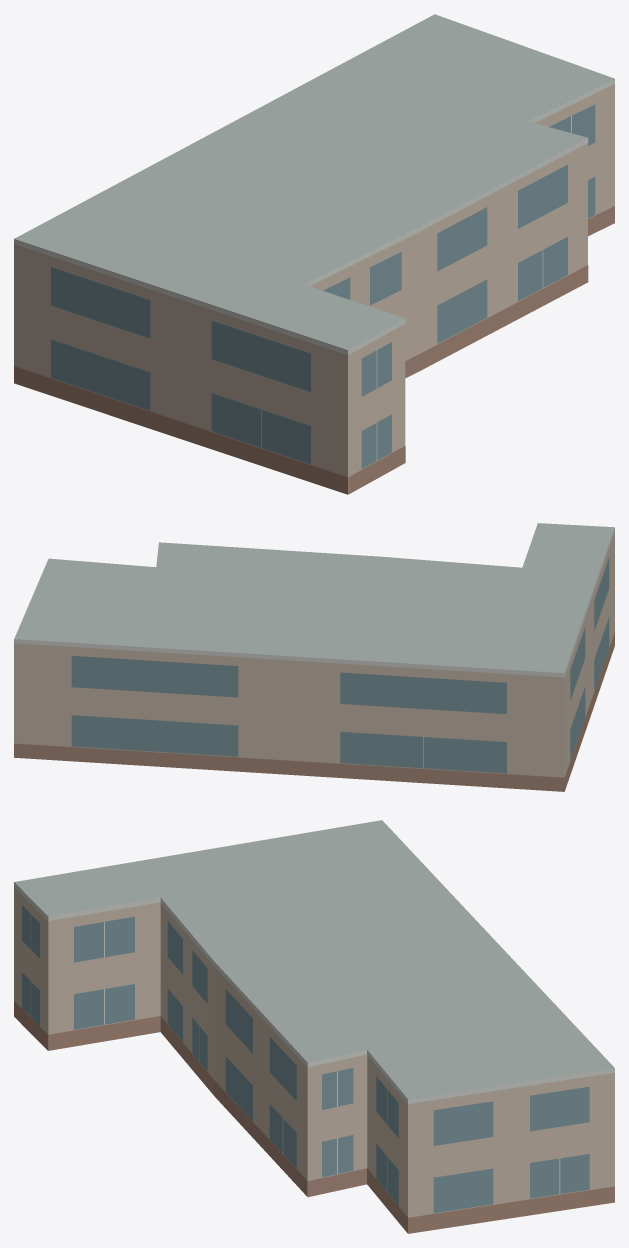
The model's file is survey-upis-32861211.glb.
3 renders of one model, top to bottom at view 1: azimuth 30°, elevation 25°; view 2: azimuth 150°, elevation 25°; view 3: azimuth 270°, elevation 25°, orthographic. The views are drawn at different scales.
Visible parts, largest first — view 1: survey-upis-32861211.tmp; view 2: survey-upis-32861211.tmp; view 3: survey-upis-32861211.tmp.
Boxes of the visible parts, left/top/right/bottom form: survey-upis-32861211.tmp: left=14, top=14, right=614, bottom=494; survey-upis-32861211.tmp: left=14, top=523, right=614, bottom=791; survey-upis-32861211.tmp: left=14, top=820, right=614, bottom=1233.
Bounding box in the file's own units: 30.72 × 6.9 × 27.93.
